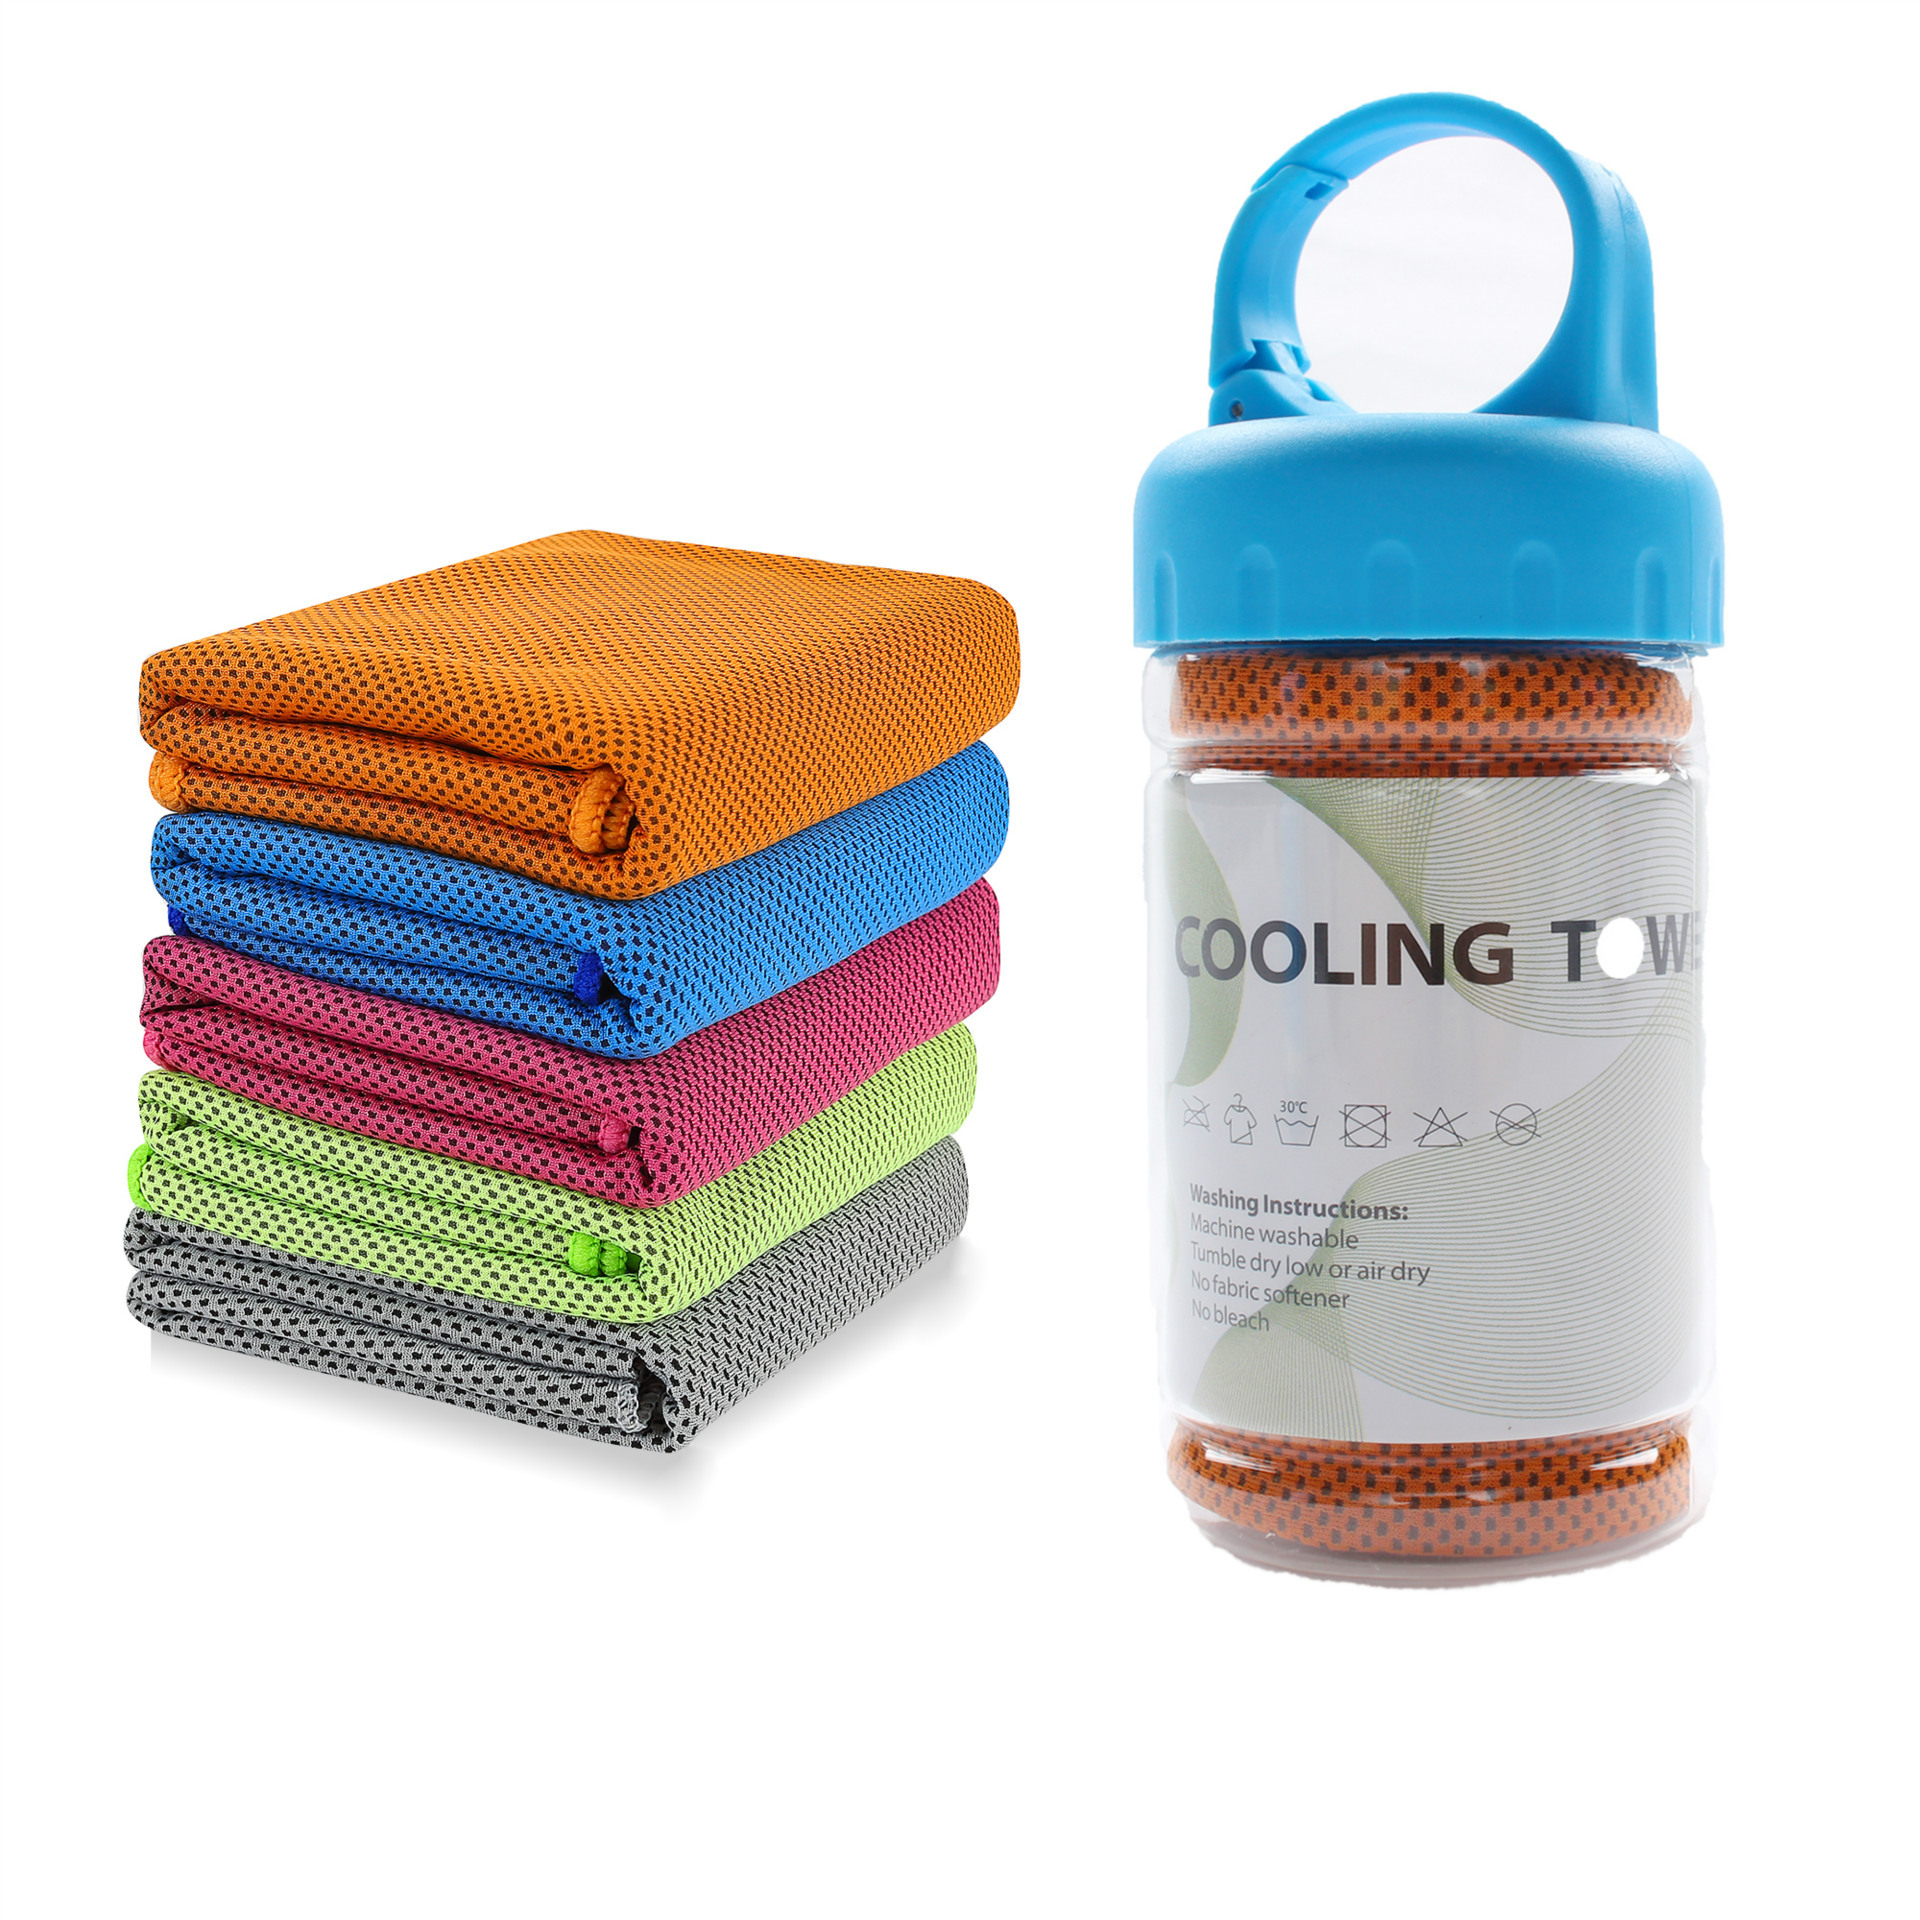flexible: (114, 519, 1041, 1466)
